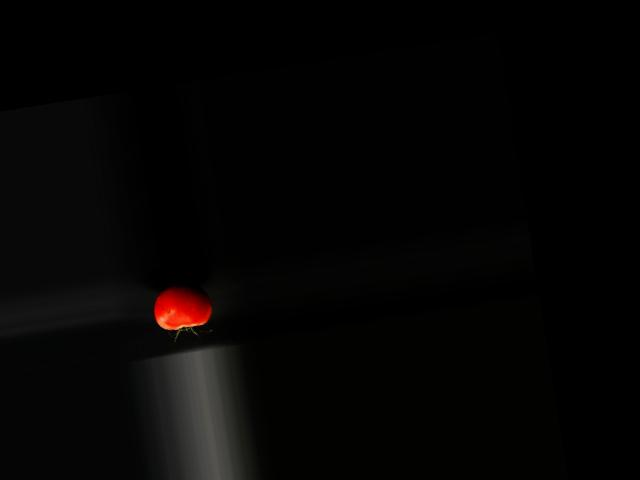tomato: (149, 280, 214, 332)
